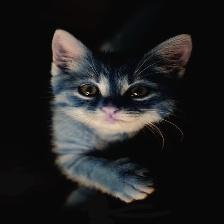kedo: (53, 29, 192, 202)
